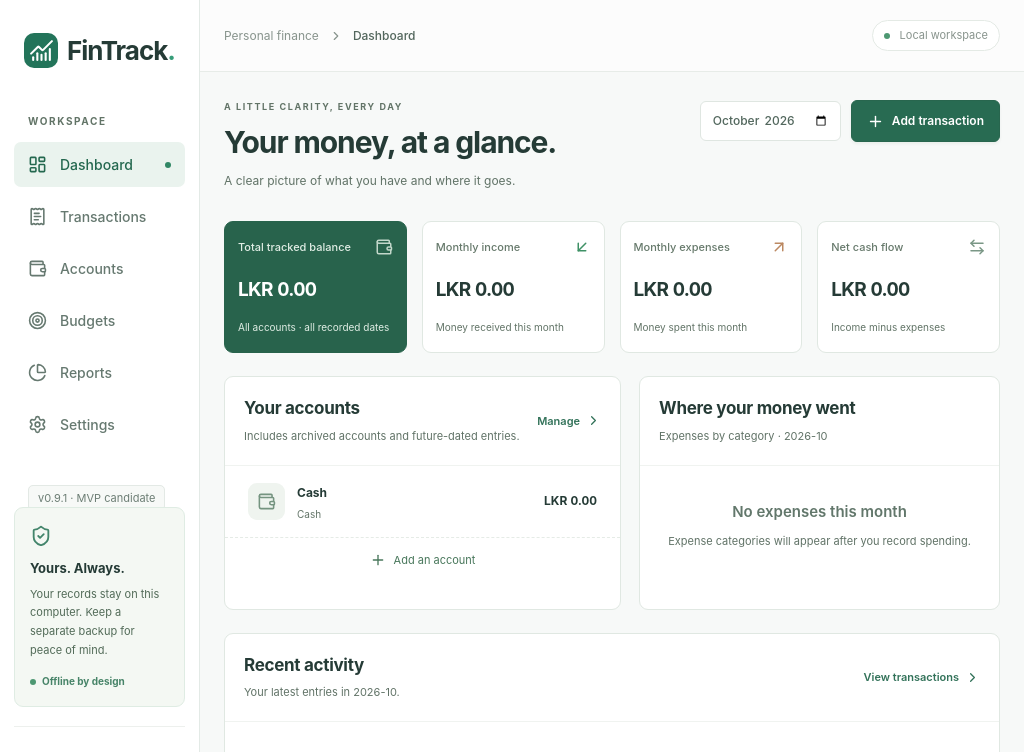
Test: Rust validation errors stay in the form and allow correction
Click the button "Add transaction": (925, 121) [851,100,1000,142]
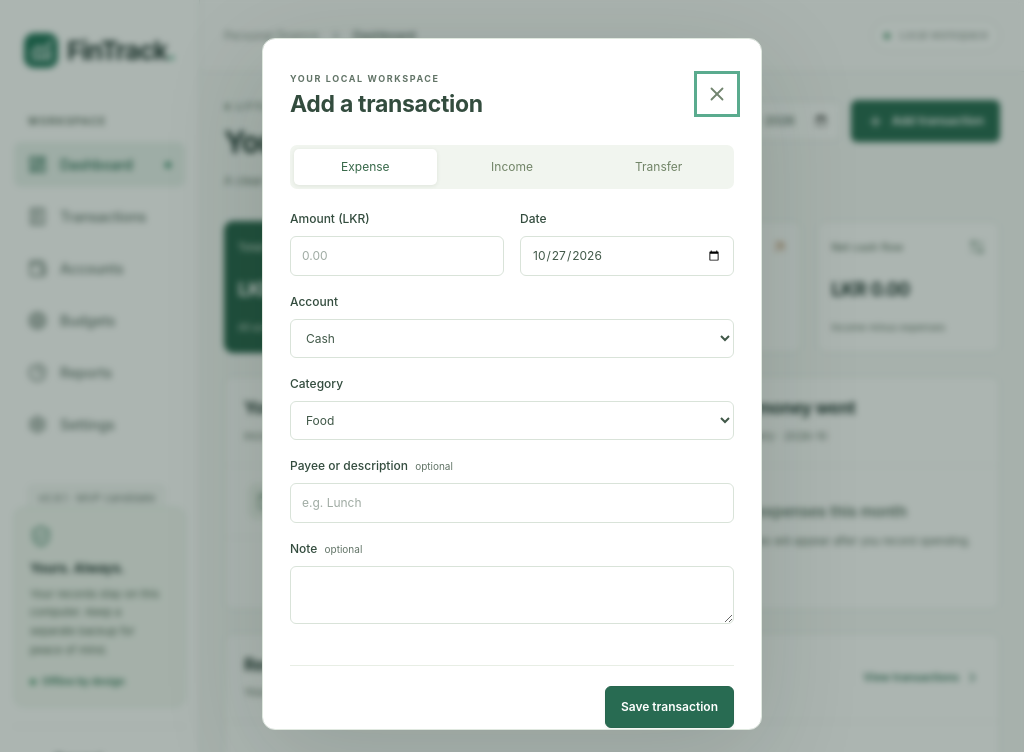
In the field labelled "Amount (LKR)": (397, 256) [290,236,504,276], type "0"
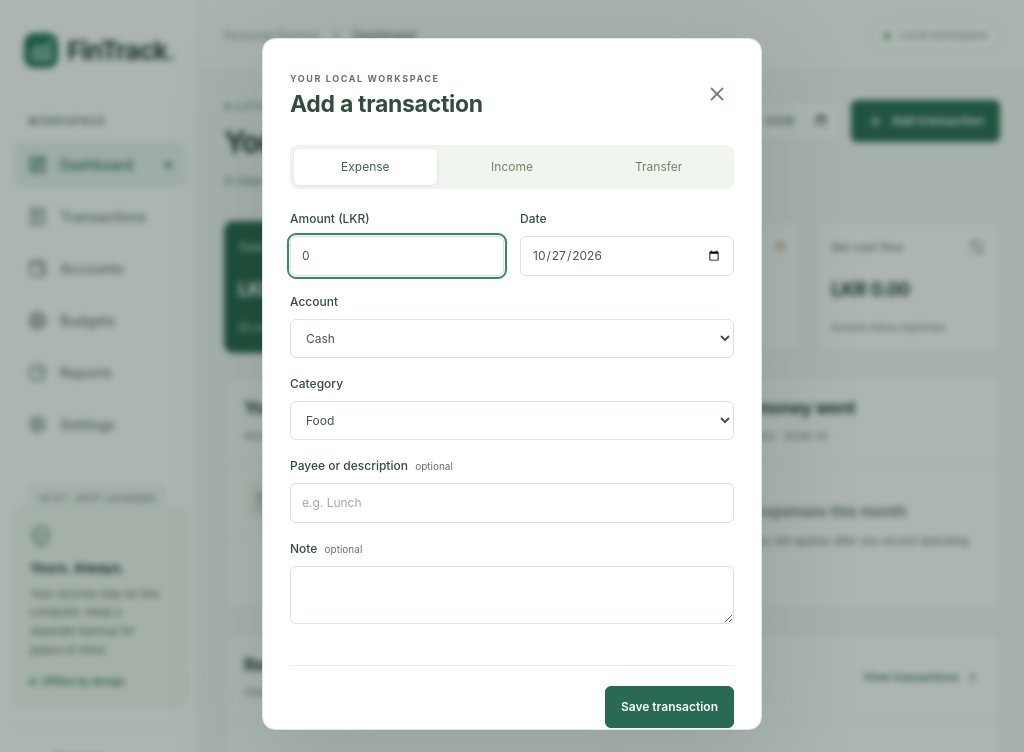
Click the button "Save transaction": (669, 707) [605,686,734,728]
(page scrolled)
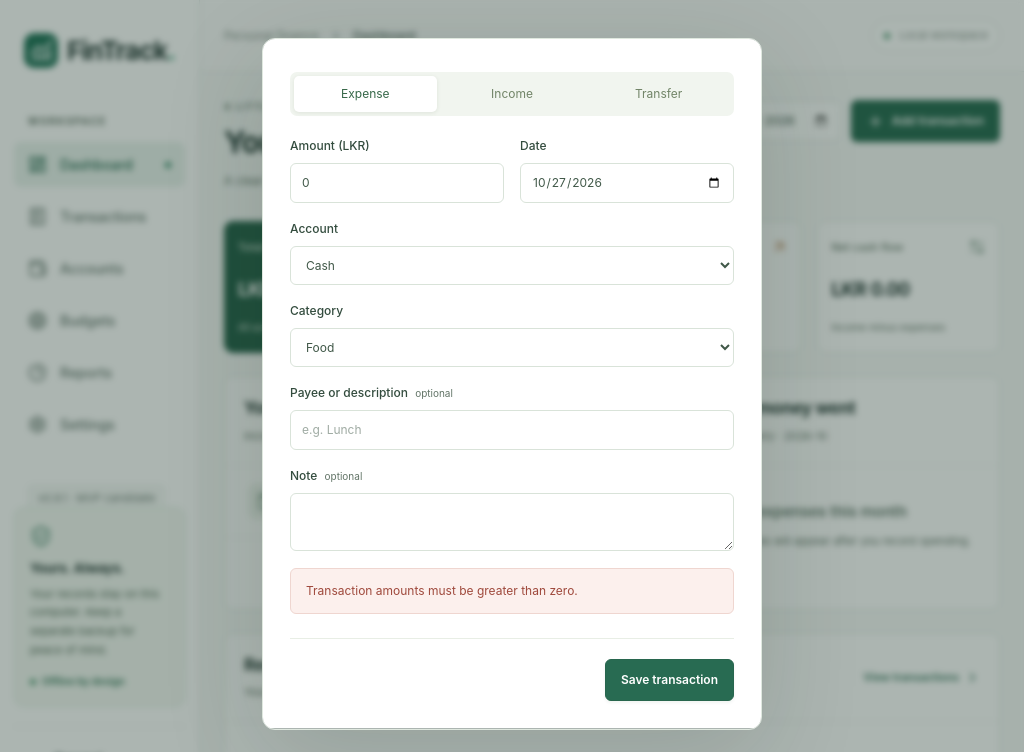
Result: the button "Save transaction" is enabled at [605,659,734,701]
Result: the message reads "Transaction amounts must be greater than zero." at [306,583,578,598]
